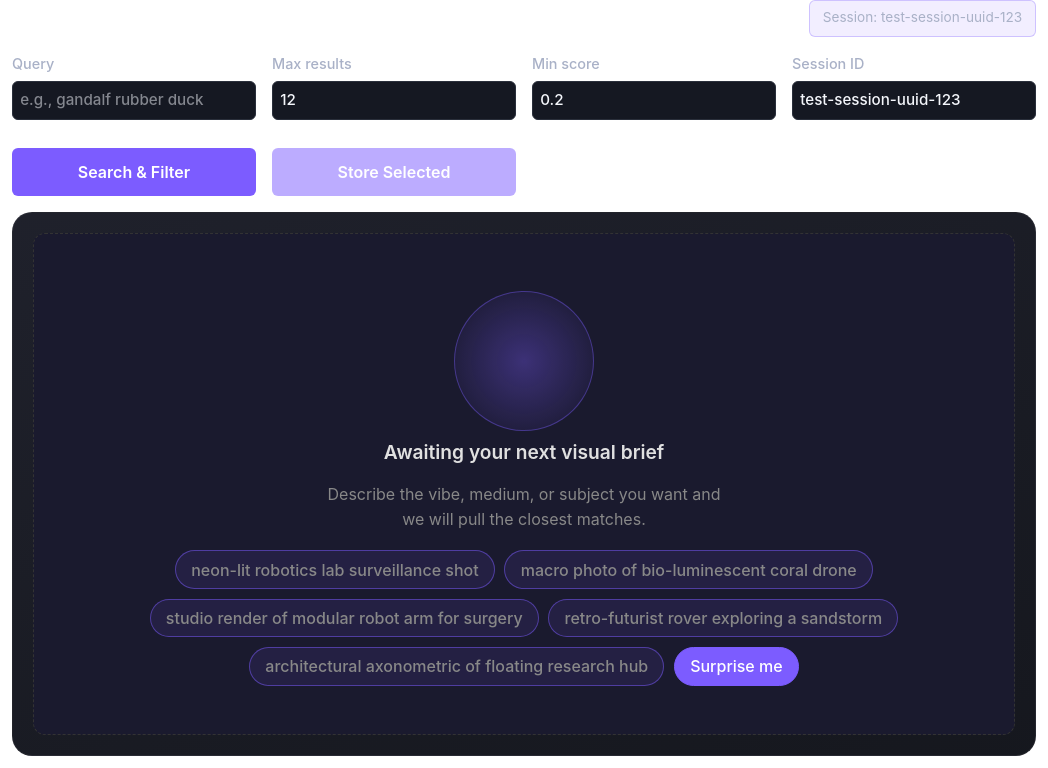
Scenario: Gallery Tab › Search Workflow › shows loading state during search
Type "test search" into the field with placeholder "e.g., gandalf rubber duck" at (134, 100), box [12,80,256,120]
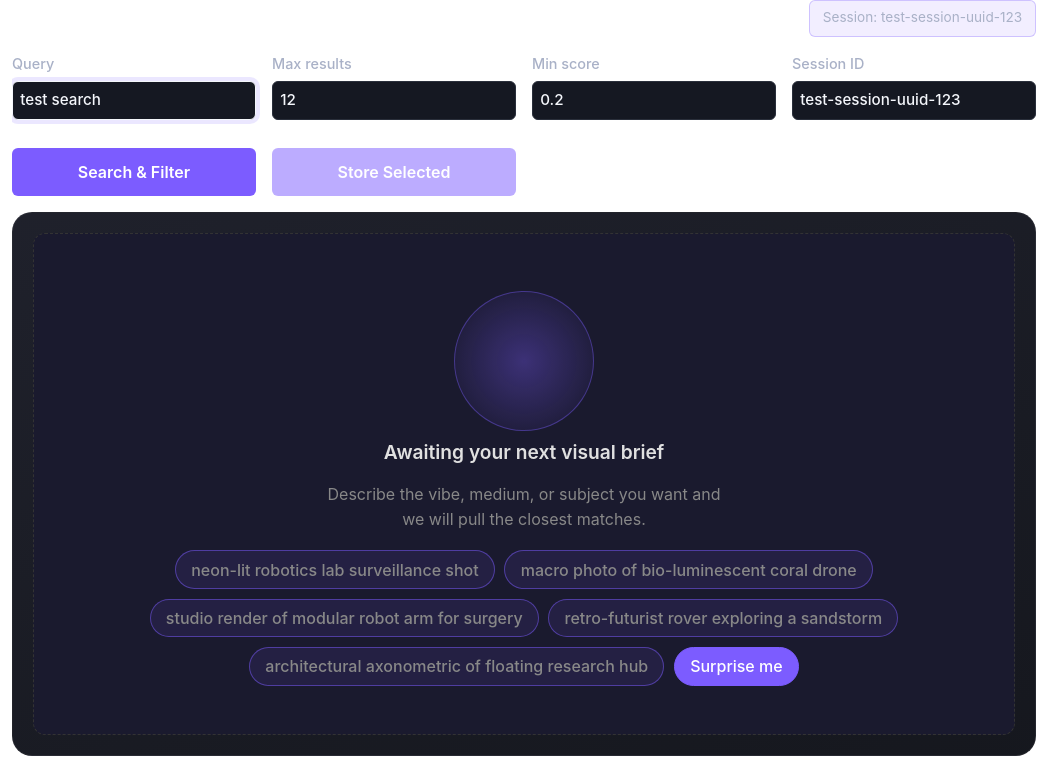
Click the button "Search & Filter" at (134, 172), box [12,148,256,196]
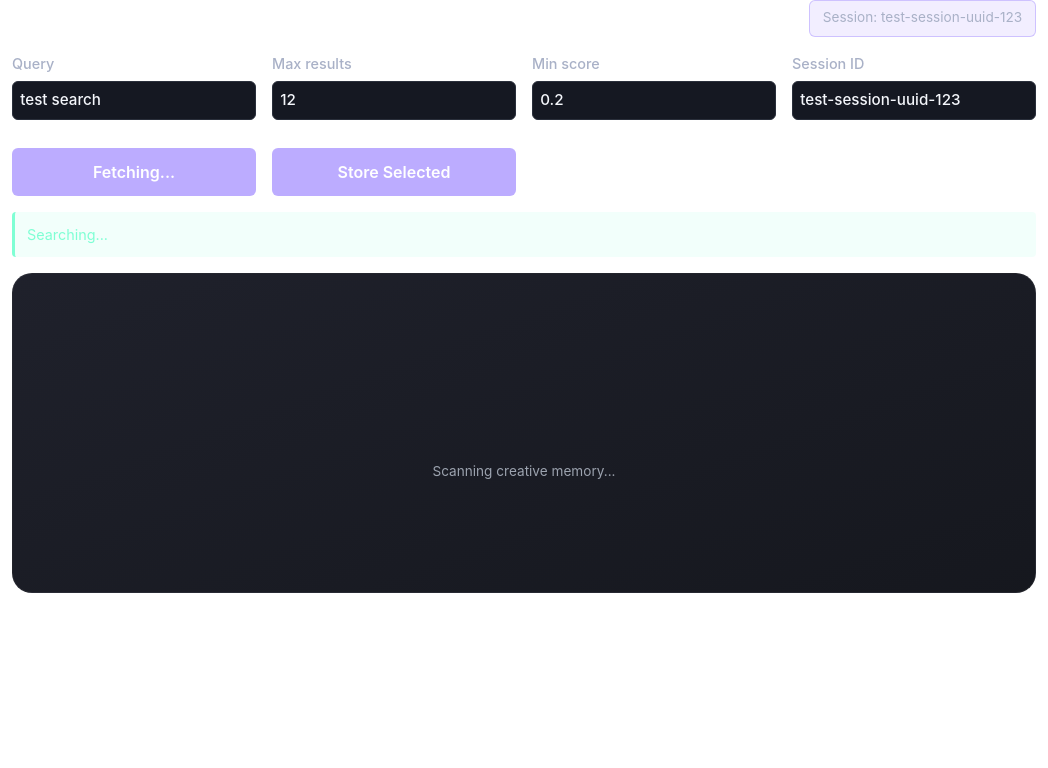
Now the text "Scanning creative memory..." is shown, box [432,461,616,483]
